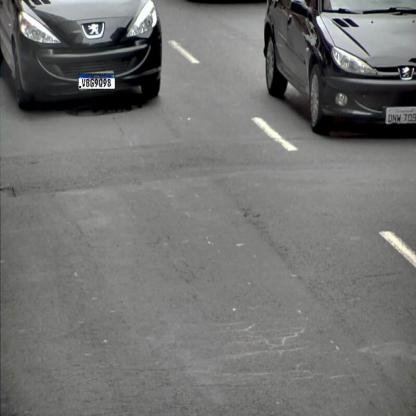PlacaM: (78, 74, 115, 90)
